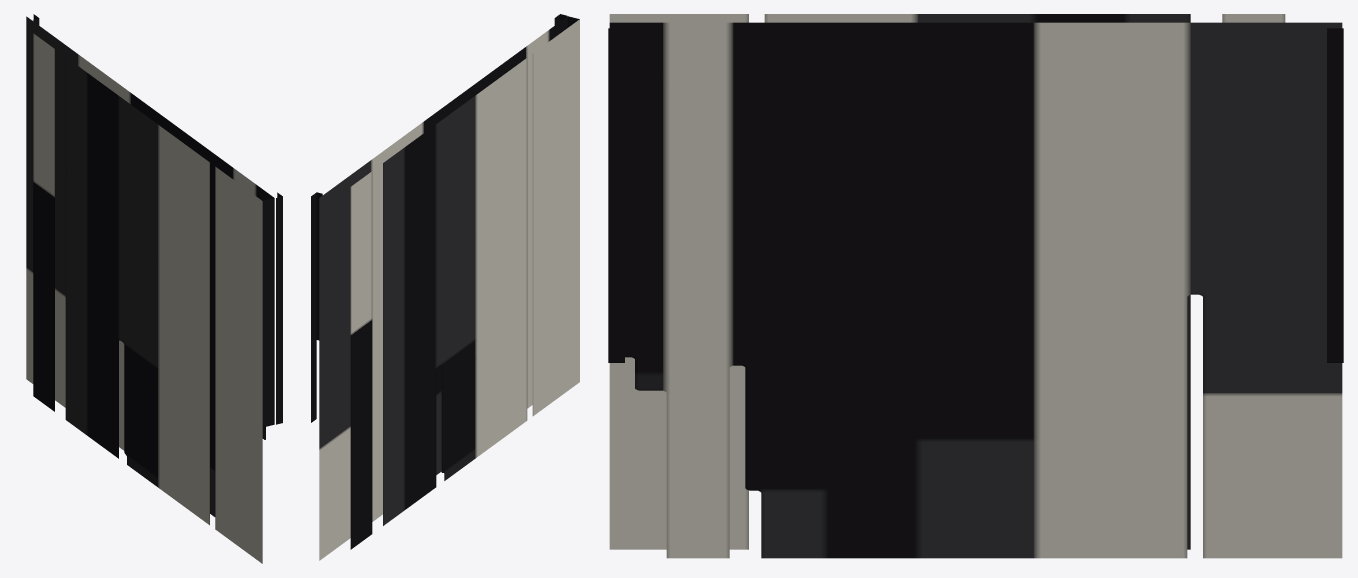
File: section-1.obj
The picture shows the model from 3 angles, left to right: view 1: azimuth 30°, elevation 25°; view 2: azimuth 150°, elevation 25°; view 3: azimuth 270°, elevation 25°; orthographic projection. The views are drawn at different scales.
Size of the model in its own units: 0.0575 by 1 by 1.24.
